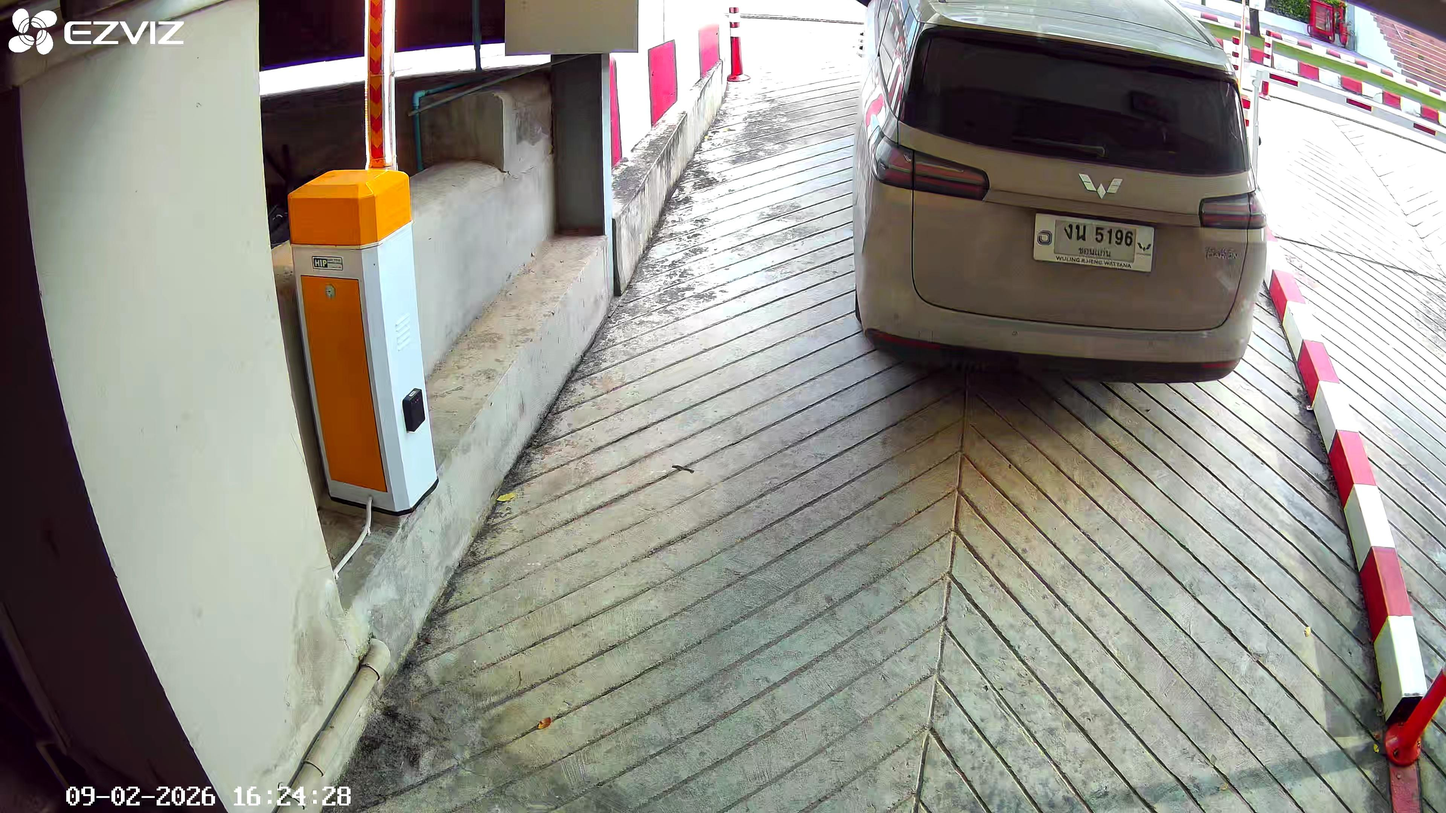car: (852, 3, 1269, 382)
license-plate: (1029, 209, 1158, 273)
